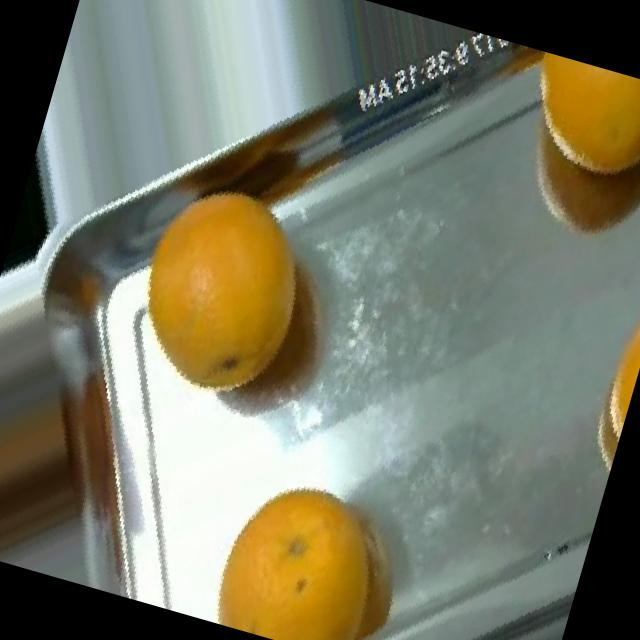Fruit: (471, 46, 640, 291), (0, 122, 92, 305), (577, 261, 640, 455)
